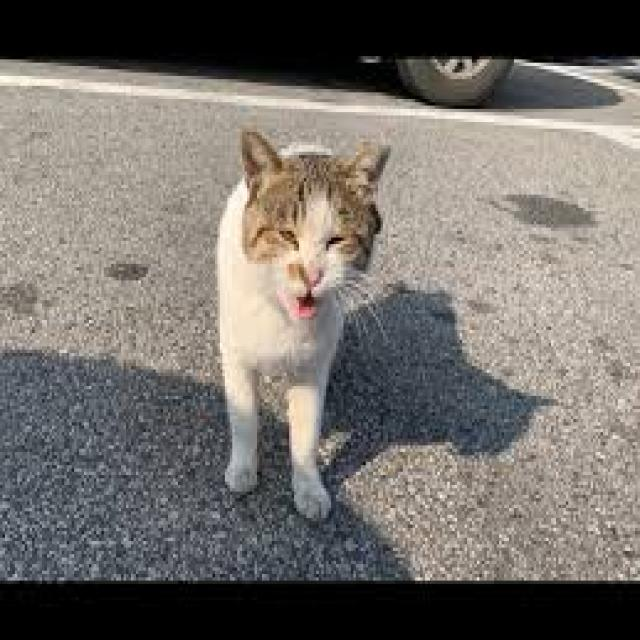cat: (162, 90, 480, 489)
